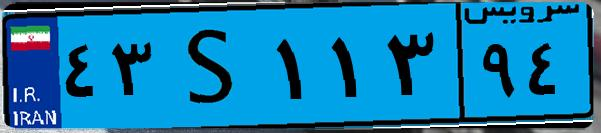1: (270, 28, 330, 110), (330, 28, 385, 110)
3: (385, 28, 445, 110), (110, 28, 158, 98)
4: (57, 26, 110, 100), (525, 38, 570, 115)
9: (475, 38, 525, 113)
S: (158, 12, 270, 120)
